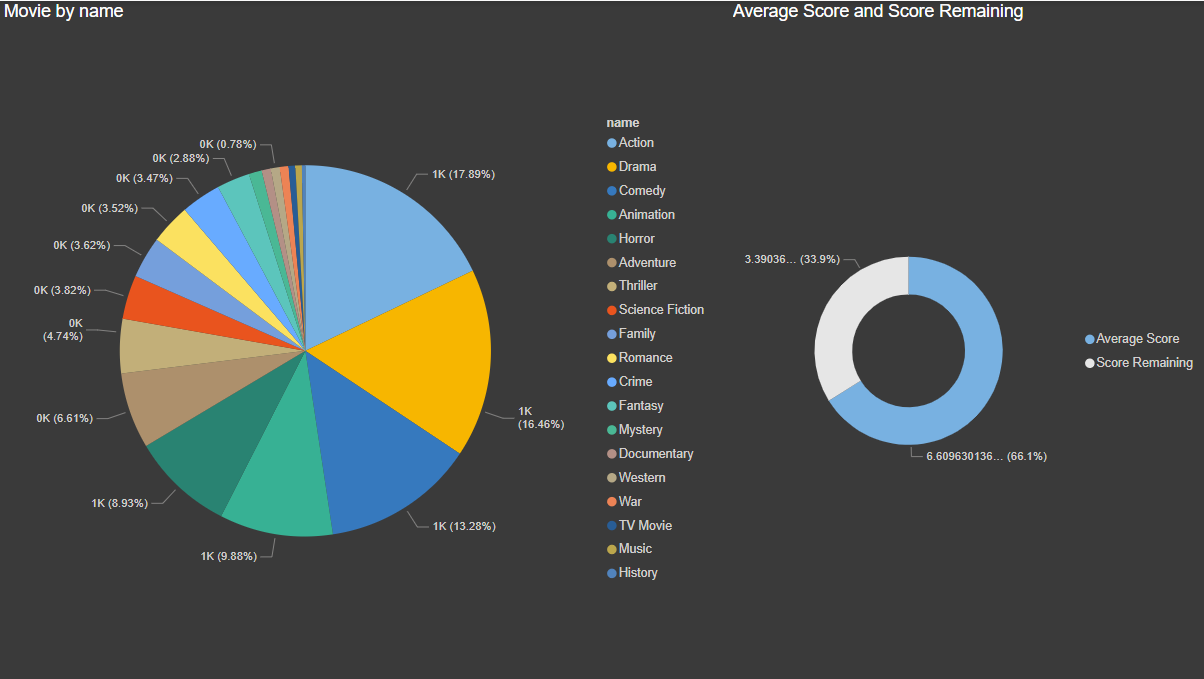

This screenshot's page, from the dashboard's own definition file:
{"tool":"powerbi","page":{"name":"Movie genre and average scores","canvas":[1280,720],"ordinal":2},"visuals":[{"type":"pieChart","fields":{"Category":["genres.name"],"Y":["_Measures.Movie"]},"box":[0,0,761.6,720],"z":0},{"type":"donutChart","fields":{"Y":["_Measures.Average Score","_Measures.Score Remaining"]},"box":[772.5,0,507,720],"z":1000}]}

Visuals, with their boxes in screenshot pixels (x1, y1, x2, y2), scaled from the page's 1280x720 canvas onto the 1204x679 screenshot:
pieChart - genres.name x _Measures.Movie: locate(0, 0, 716, 678)
donutChart - _Measures.Average Score x _Measures.Score Remaining: locate(727, 0, 1203, 678)
